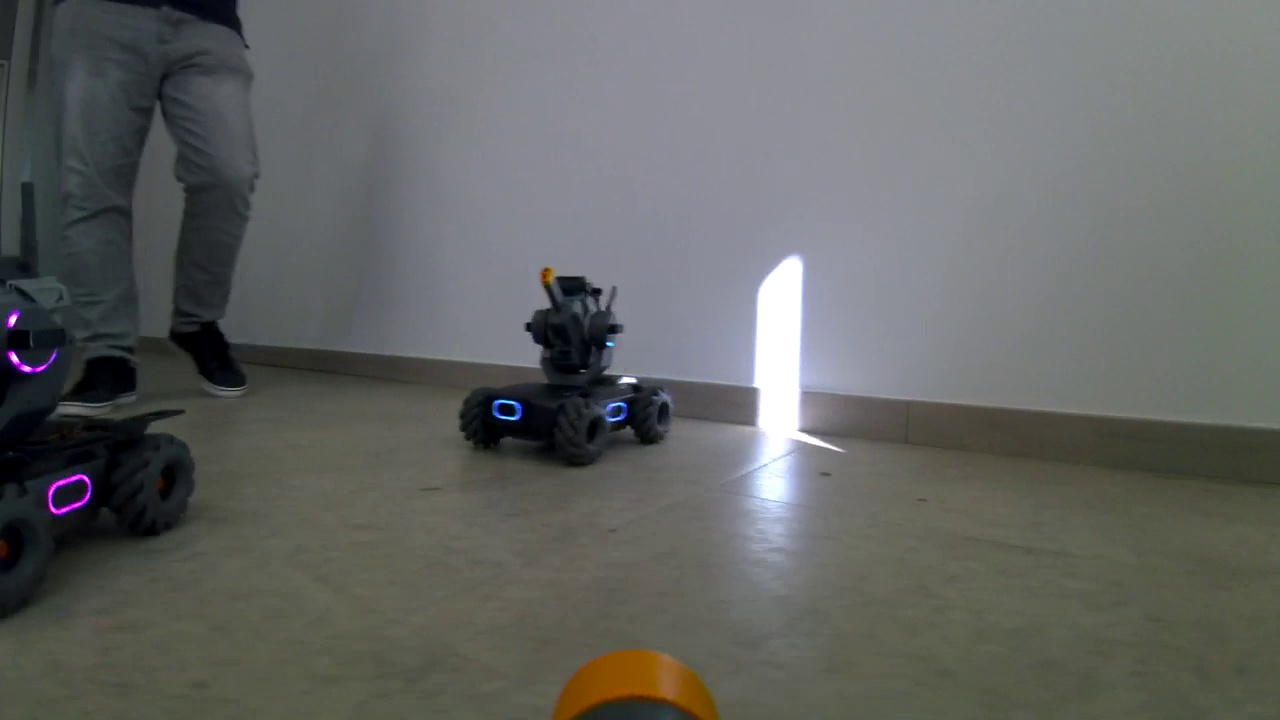robot: (1, 223, 185, 611), (461, 270, 676, 460)
